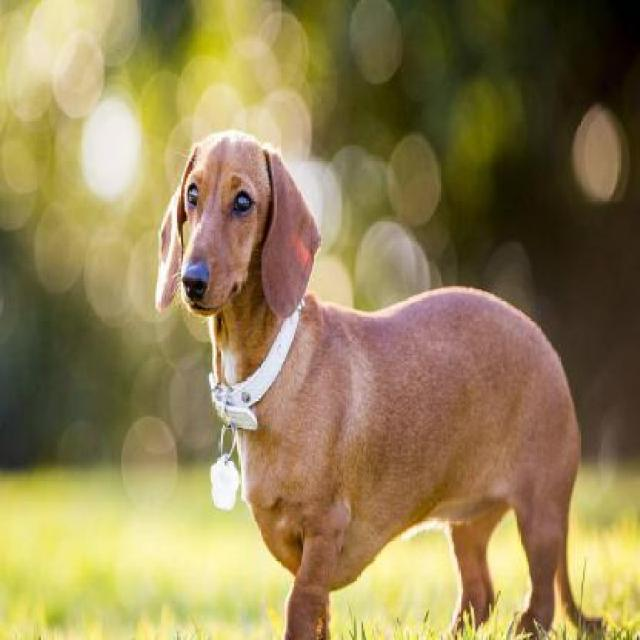Dog: (152, 124, 611, 638)
